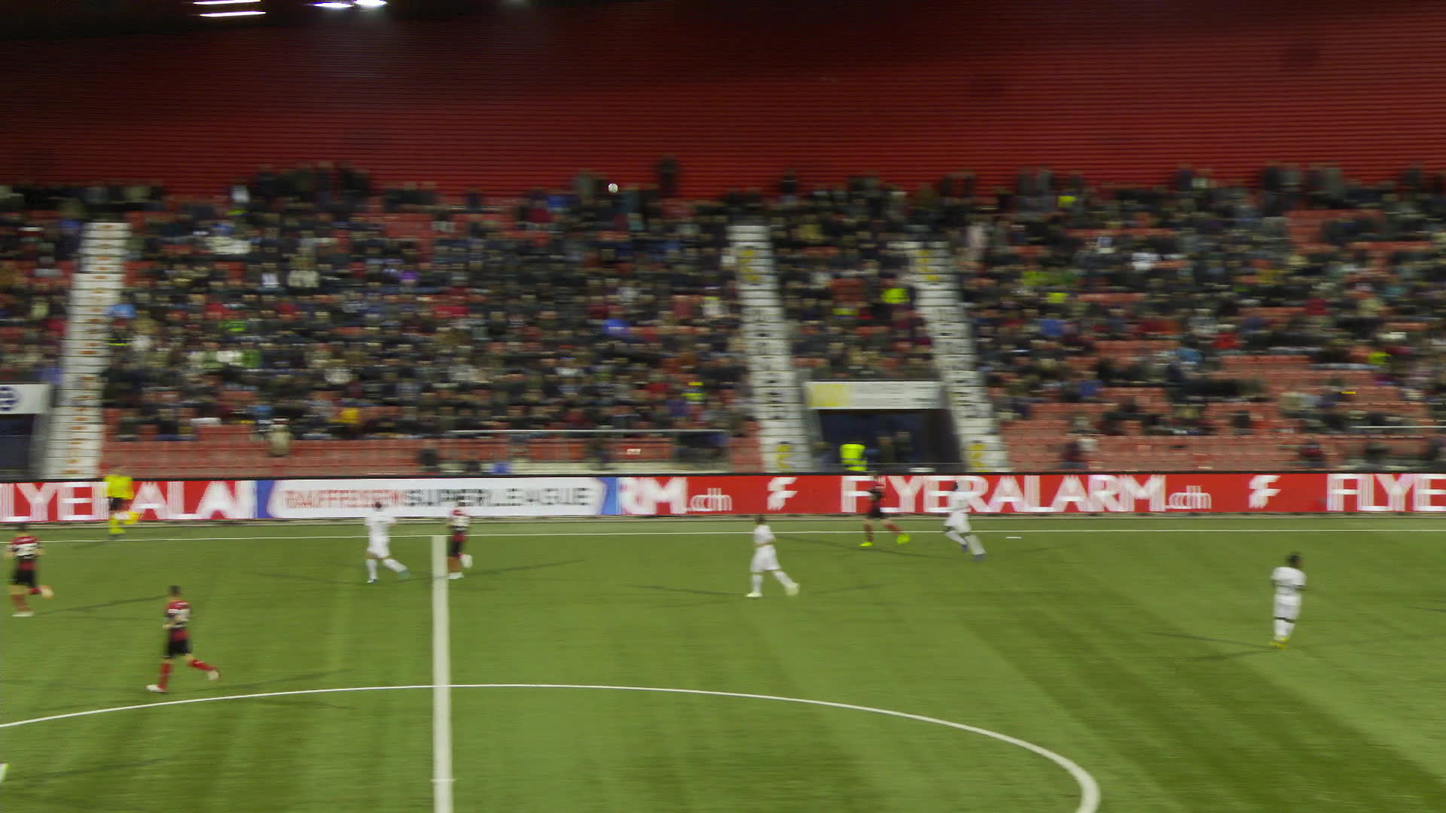ball: (605, 183, 614, 191)
player: (134, 589, 188, 697), (3, 522, 53, 617), (338, 503, 389, 589), (726, 515, 778, 599), (922, 483, 978, 560), (410, 491, 456, 578), (1259, 550, 1300, 645), (840, 479, 886, 550), (0, 764, 8, 783)
referee: (87, 464, 127, 537)
